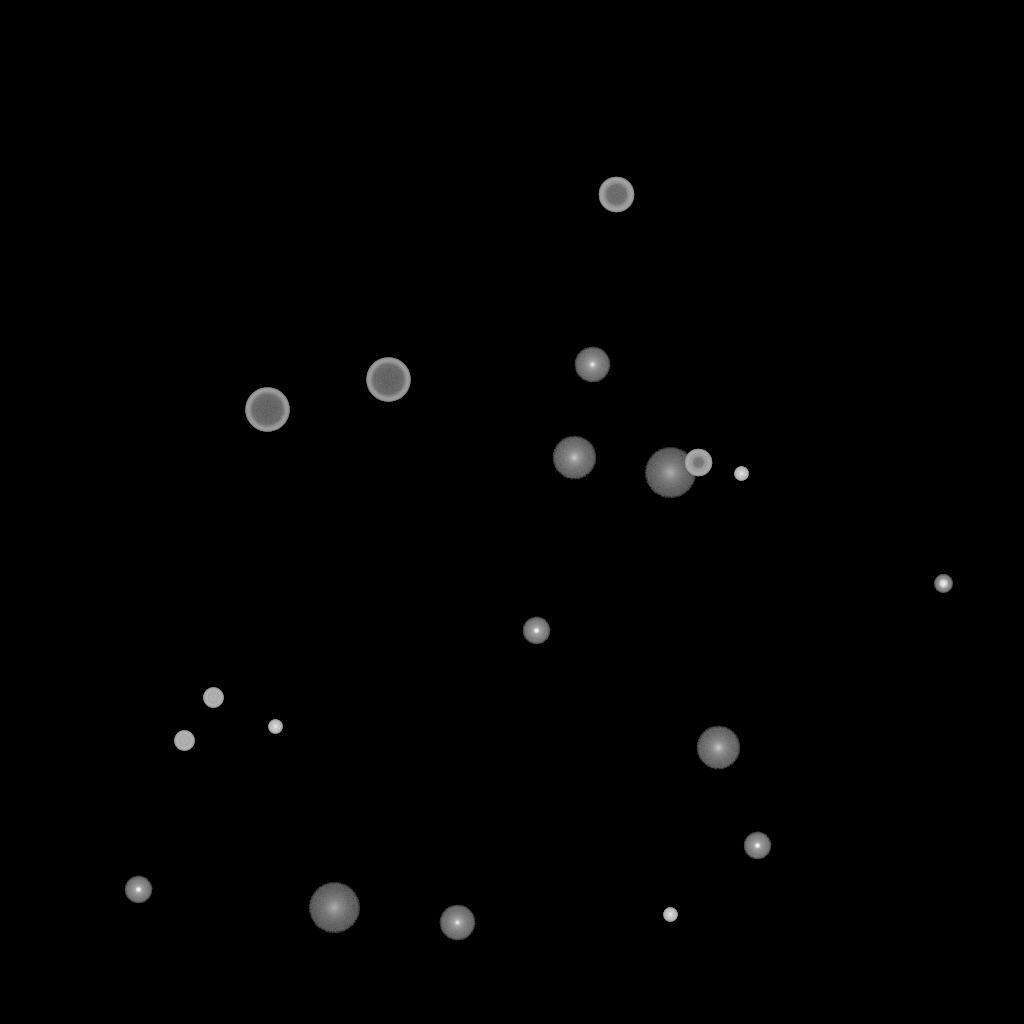depth:-10: (124, 876, 152, 904), (522, 617, 550, 645), (743, 832, 771, 860)
depth:-20: (934, 575, 952, 593)
depth:-30: (268, 720, 282, 734), (663, 908, 677, 922), (734, 467, 748, 481)
depth:-40: (174, 731, 194, 751), (203, 688, 223, 708)
depth:-50: (684, 449, 712, 477)
depth:-60: (598, 177, 634, 213)
depth:-70: (245, 388, 289, 432), (366, 358, 410, 402)
depth:0: (574, 347, 610, 383), (439, 905, 475, 941)
depth:10: (696, 726, 740, 770), (552, 436, 596, 480)
depth:20: (308, 883, 360, 933), (644, 448, 696, 498)
